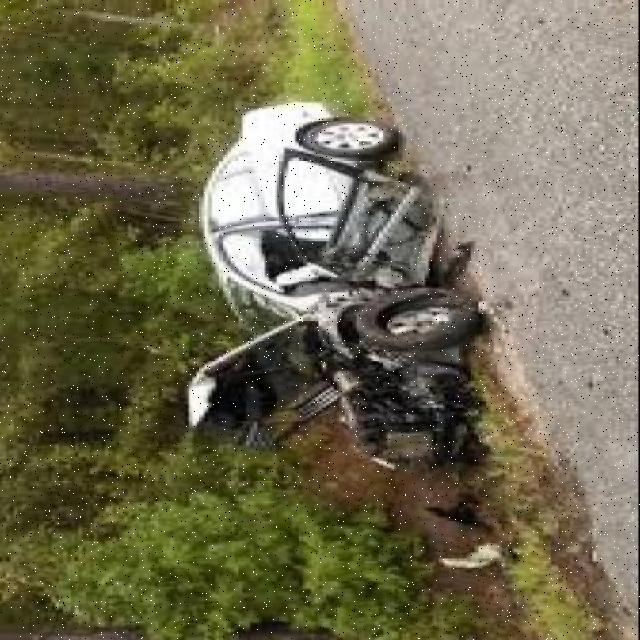damage: (190, 177, 448, 461)
